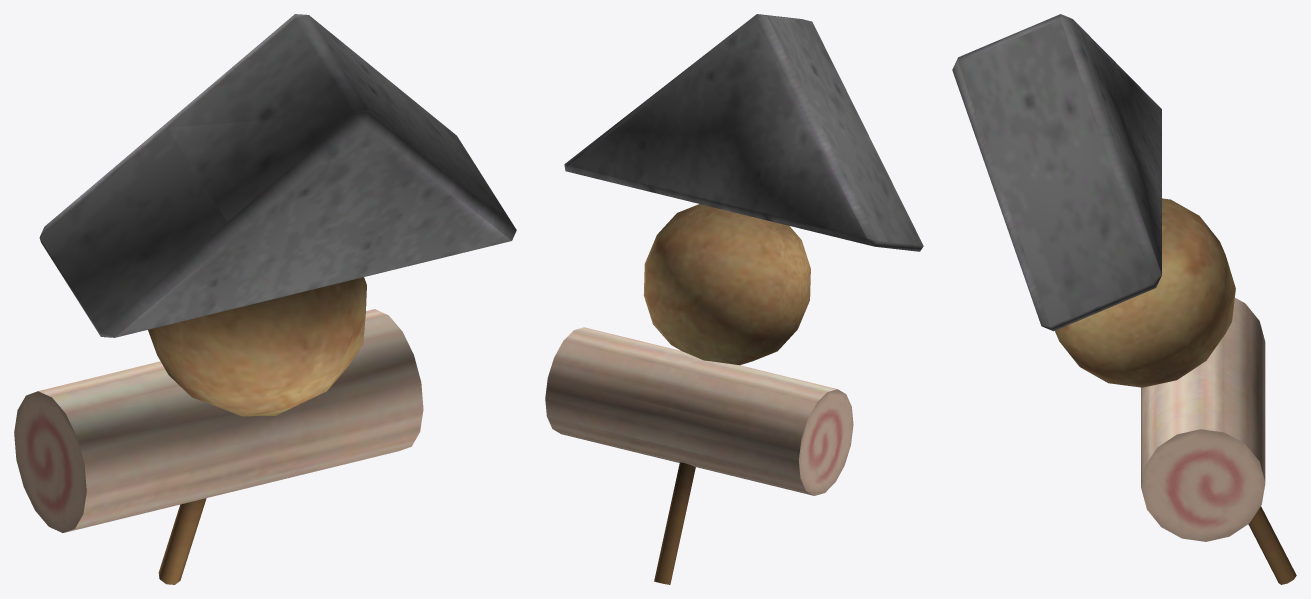
The model's file is micon.ico.obj.
3 renders of one model, left to right at view 1: azimuth 30°, elevation 25°; view 2: azimuth 150°, elevation 25°; view 3: azimuth 270°, elevation 25°, orthographic. The views are drawn at different scales.
Bounding box in the file's own units: 3.1 × 4.69 × 2.59.
1 material, 1 textured.
